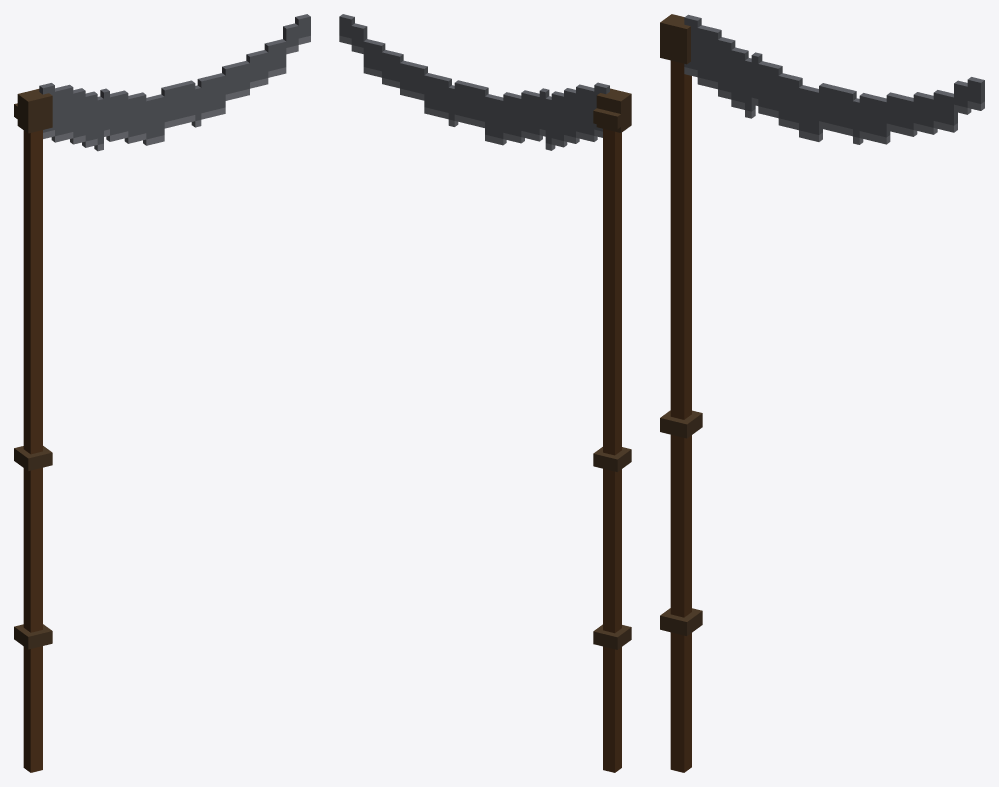
File: field_scythe.glb
3 views of the same model, side by side, from view 1: azimuth 30°, elevation 25°; view 2: azimuth 150°, elevation 25°; view 3: azimuth 330°, elevation 25° (orthographic). The views are drawn at different scales.
Parts seen in each view (by area): view 1: field_scythe; view 2: field_scythe; view 3: field_scythe.
Part boxes in pixels (x1,y1,x2,y2): field_scythe: (14,14,310,772); field_scythe: (339,14,631,772); field_scythe: (660,14,984,772).
Size of the model in its own units: 0.705 by 1.62 by 0.06.
